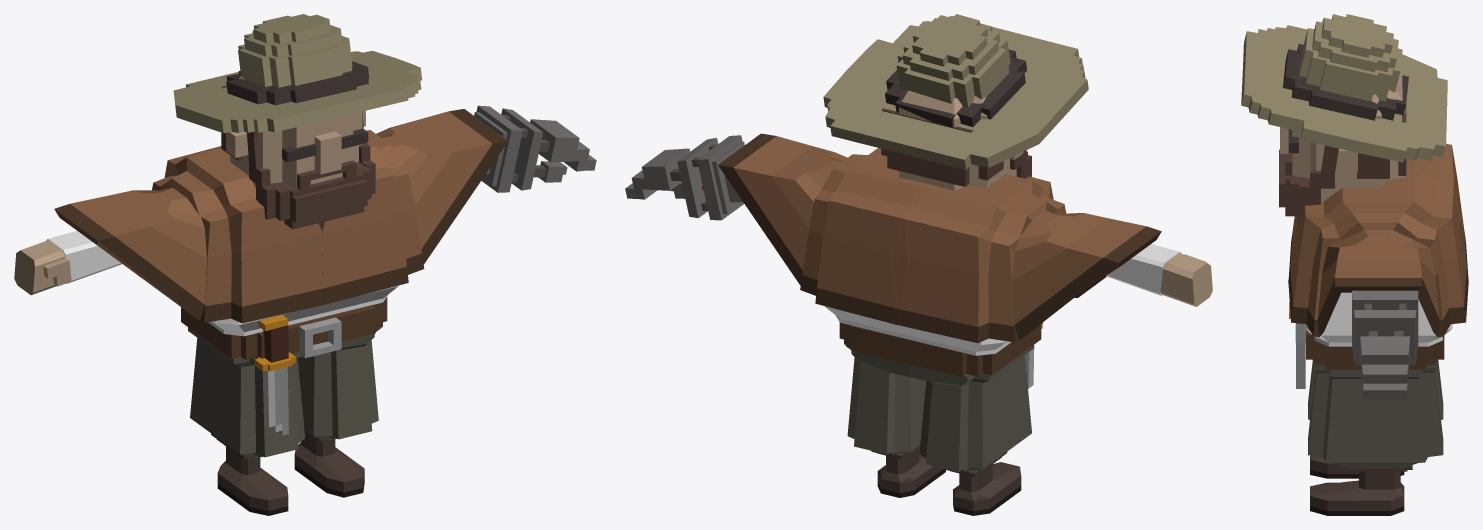
Rendered from playertpose.glb.
The picture shows the model from 3 angles, left to right: view 1: azimuth 30°, elevation 25°; view 2: azimuth 150°, elevation 25°; view 3: azimuth 270°, elevation 25°; orthographic projection. The views are drawn at different scales.
Parts seen in each view (by area): view 1: poncho.001, Cube.005, Cube.002, leg right .001, leg left.001, torso.001, arm left.001, arm right.001, Cube.004, Cube.003, eyes.001; view 2: poncho.001, Cube.005, leg right .001, torso.001, leg left.001, arm left.001, Cube.002, arm right.001; view 3: Cube.005, poncho.001, leg left.001, arm left.001, Cube.002, torso.001, leg right .001, Cube.004.
Part boxes in pixels (x1=…): poncho.001: x1=54, y1=109, x2=507, y2=323; Cube.005: x1=173, y1=14, x2=422, y2=133; Cube.002: x1=221, y1=76, x2=375, y2=229; leg right .001: x1=190, y1=338, x2=305, y2=515; leg left.001: x1=294, y1=340, x2=378, y2=497; torso.001: x1=181, y1=285, x2=398, y2=366; arm left.001: x1=474, y1=105, x2=596, y2=192; arm right.001: x1=14, y1=231, x2=121, y2=295; Cube.004: x1=254, y1=315, x2=295, y2=435; Cube.003: x1=299, y1=317, x2=341, y2=358; eyes.001: x1=282, y1=128, x2=368, y2=162; poncho.001: x1=718, y1=133, x2=1161, y2=343; Cube.005: x1=823, y1=14, x2=1088, y2=169; leg right .001: x1=919, y1=355, x2=1031, y2=515; torso.001: x1=825, y1=234, x2=1041, y2=386; leg left.001: x1=847, y1=357, x2=945, y2=497; arm left.001: x1=625, y1=135, x2=744, y2=220; Cube.002: x1=881, y1=82, x2=1031, y2=190; arm right.001: x1=1106, y1=244, x2=1212, y2=306; Cube.005: x1=1241, y1=14, x2=1447, y2=162; poncho.001: x1=1288, y1=144, x2=1468, y2=337; leg left.001: x1=1308, y1=371, x2=1443, y2=515; arm left.001: x1=1352, y1=290, x2=1418, y2=398; Cube.002: x1=1279, y1=72, x2=1406, y2=216; torso.001: x1=1304, y1=226, x2=1452, y2=378; leg right .001: x1=1308, y1=359, x2=1443, y2=478; Cube.004: x1=1289, y1=302, x2=1305, y2=388.
Size of the model in its own units: 0.6491 by 0.5097 by 0.2266.
